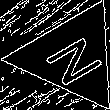N_NE: (35, 26, 107, 87)
